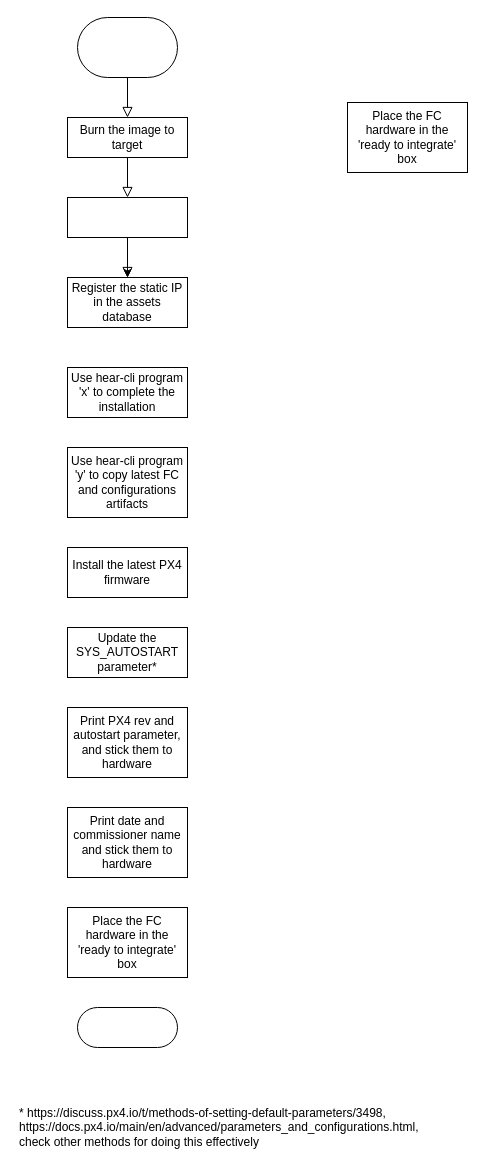
Some shapes in this 485 by 1175 pixel diagram are drawn without their labels. Each missing label, with the box of its shape:
Connect to target and assign static IP: (66, 196, 188, 238)
Finish: (76, 1006, 178, 1048)
Start 'Ready To Integrate FC': (76, 16, 178, 78)
